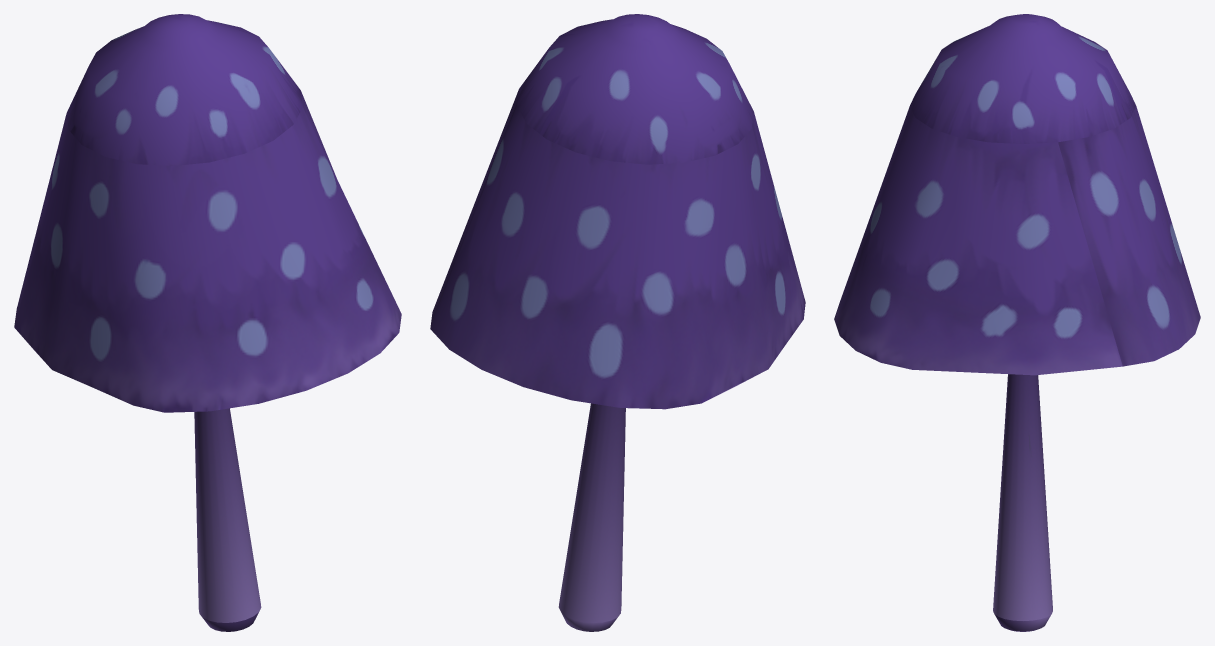
Rendered from glowy_mushroom.glb.
The picture shows the model from 3 angles, left to right: view 1: azimuth 30°, elevation 25°; view 2: azimuth 150°, elevation 25°; view 3: azimuth 270°, elevation 25°; orthographic projection. The views are drawn at different scales.
Parts seen in each view (by area): view 1: paddenstoel_2_kop, paddenstoel_2_steel; view 2: paddenstoel_2_kop, paddenstoel_2_steel; view 3: paddenstoel_2_kop, paddenstoel_2_steel.
Part boxes in pixels (x1,y1,x2,y2): paddenstoel_2_kop: (14, 14, 401, 412); paddenstoel_2_steel: (194, 408, 261, 631); paddenstoel_2_kop: (430, 14, 805, 409); paddenstoel_2_steel: (558, 403, 625, 631); paddenstoel_2_kop: (834, 14, 1200, 375); paddenstoel_2_steel: (993, 374, 1052, 631).
Size of the model in its own units: 0.4906 by 0.9421 by 0.5351.
Materials: 1 (1 with a texture image).
